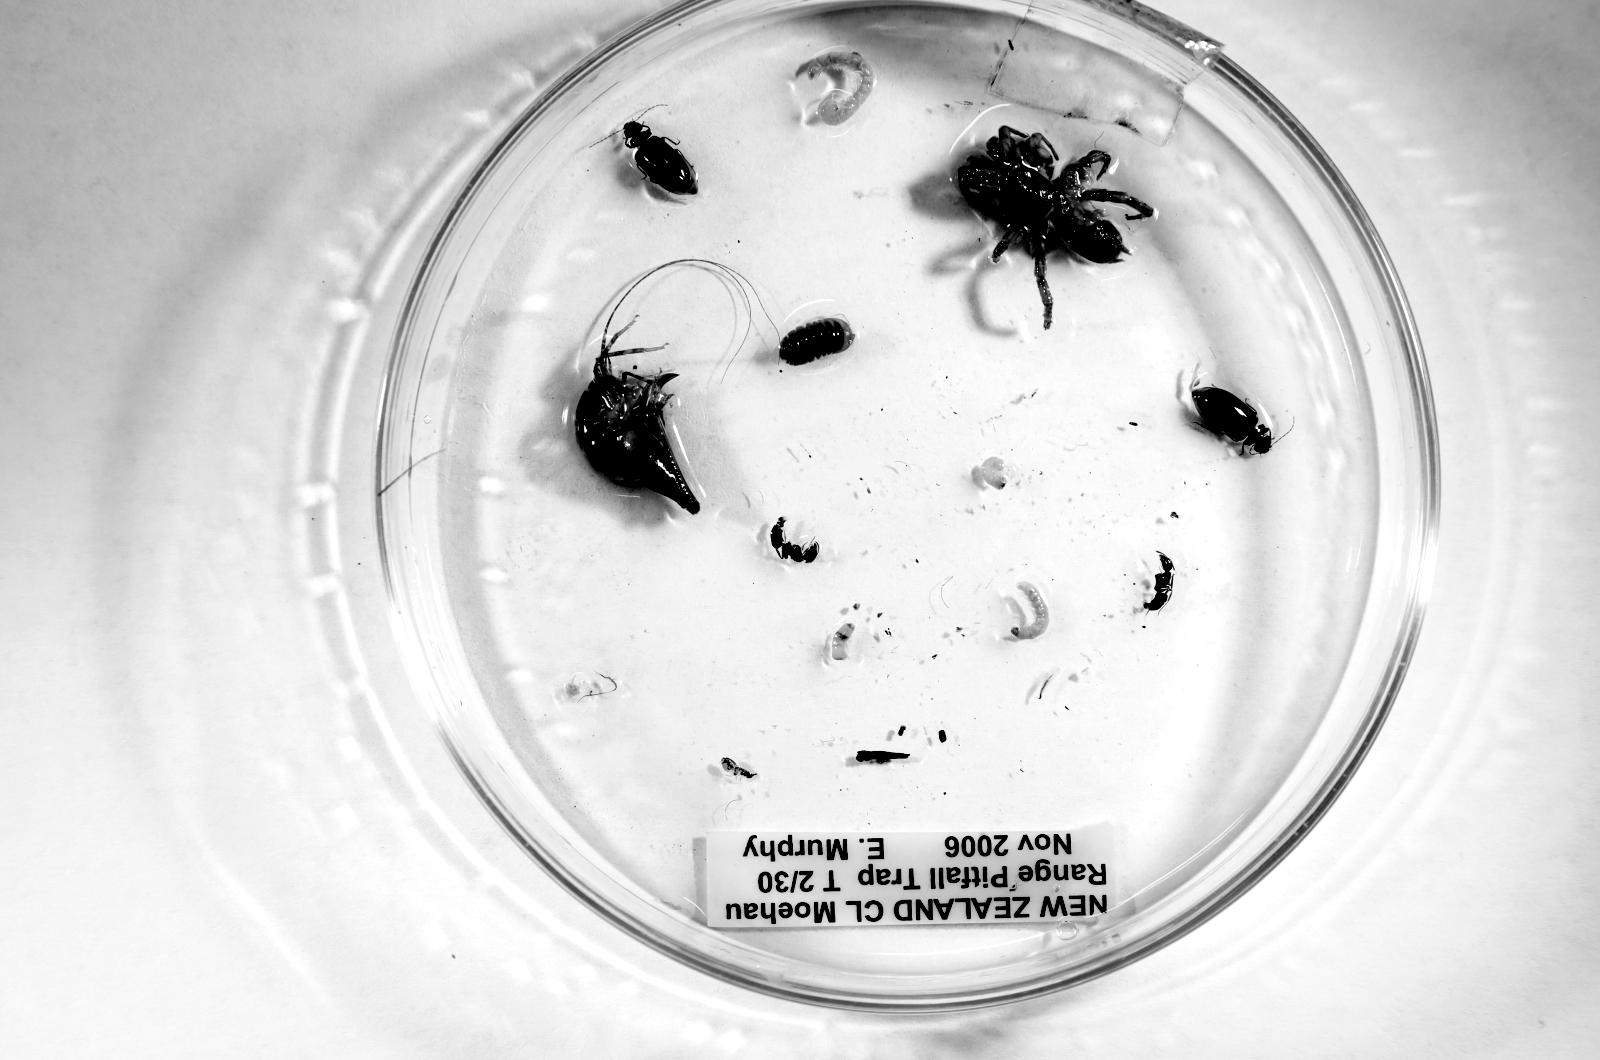araneae: (957, 126, 1154, 329)
coleoptera: (1189, 365, 1273, 454), (623, 121, 698, 194)
diplopoda: (804, 50, 875, 126)
formicidae: (771, 517, 818, 563), (1143, 551, 1173, 611)
isopoda: (779, 317, 855, 366)
orthoptera: (577, 316, 700, 513)
